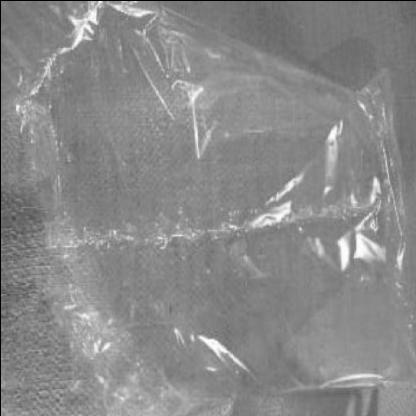objects: (26, 0, 398, 416)
